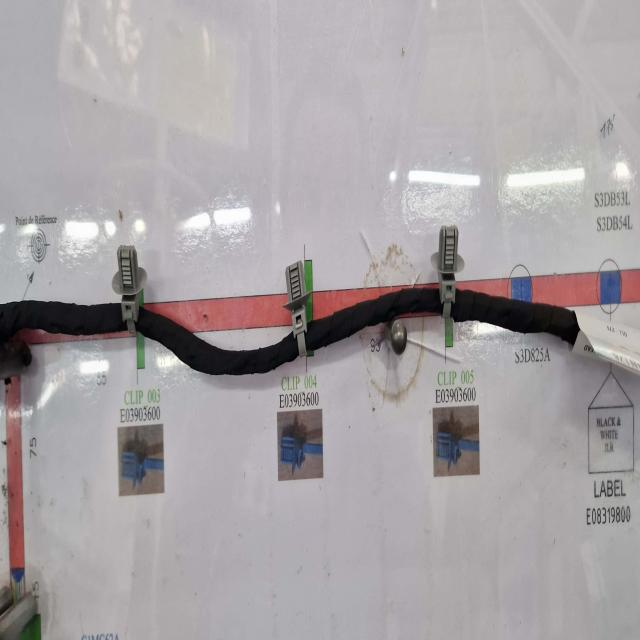Clip: (112, 245, 148, 335), (431, 226, 464, 319), (285, 262, 314, 357)
Info: (574, 303, 640, 376)
MHEV_N11_Cable: (136, 308, 299, 376), (305, 286, 442, 352), (451, 289, 579, 346), (0, 300, 125, 344)
